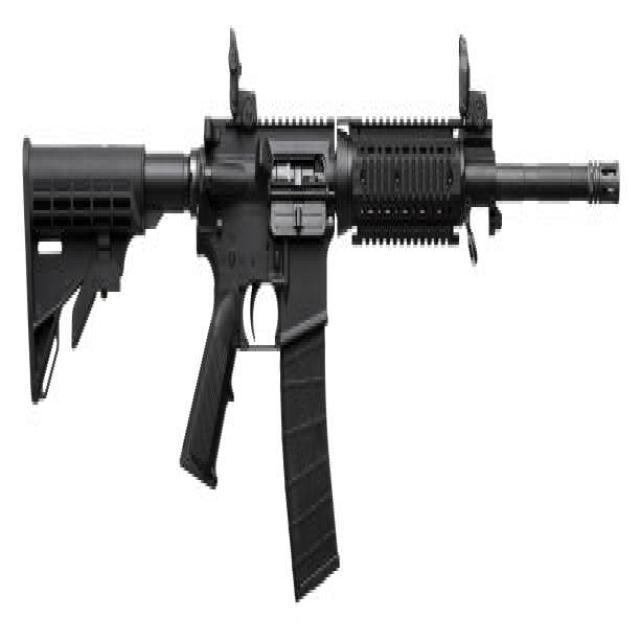rifle: (19, 14, 625, 610)
